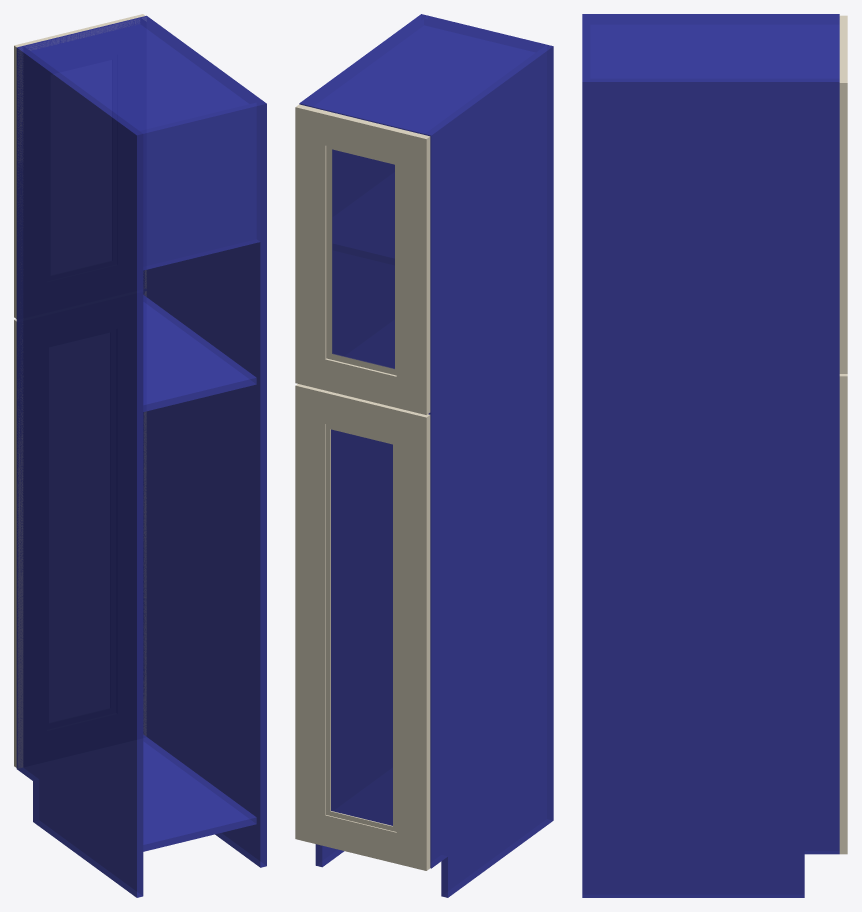
The picture shows the model from 3 angles, left to right: view 1: azimuth 30°, elevation 25°; view 2: azimuth 150°, elevation 25°; view 3: azimuth 270°, elevation 25°; orthographic projection. The views are drawn at different scales.
Parts seen in each view (by area): view 1: mesh7_mesh7-geometry, mesh3_mesh3-geometry, mesh1_mesh1-geometry, mesh9_mesh9-geometry, mesh24_mesh24-geometry, mesh15_mesh15-geometry, mesh20_mesh20-geometry; view 2: mesh7_mesh7-geometry, mesh17_mesh17-geometry, mesh3_mesh3-geometry, mesh9_mesh9-geometry, mesh15_mesh15-geometry, mesh26_mesh26-geometry, mesh18_mesh18-geometry, mesh24_mesh24-geometry, mesh22_mesh22-geometry, mesh11_mesh11-geometry, mesh20_mesh20-geometry, mesh13_mesh13-geometry (+1 smaller); view 3: mesh7_mesh7-geometry, mesh3_mesh3-geometry, mesh15_mesh15-geometry, mesh18_mesh18-geometry, mesh1_mesh1-geometry.
Boxes of the visible parts, bbox=[...] form: mesh7_mesh7-geometry: bbox=[16, 15, 266, 897]; mesh3_mesh3-geometry: bbox=[23, 17, 256, 851]; mesh1_mesh1-geometry: bbox=[140, 102, 260, 270]; mesh9_mesh9-geometry: bbox=[14, 319, 22, 767]; mesh24_mesh24-geometry: bbox=[14, 38, 46, 318]; mesh15_mesh15-geometry: bbox=[143, 291, 146, 735]; mesh20_mesh20-geometry: bbox=[41, 21, 118, 46]; mesh7_mesh7-geometry: bbox=[299, 14, 553, 897]; mesh17_mesh17-geometry: bbox=[331, 429, 392, 825]; mesh3_mesh3-geometry: bbox=[306, 18, 542, 858]; mesh9_mesh9-geometry: bbox=[393, 409, 430, 870]; mesh15_mesh15-geometry: bbox=[295, 384, 330, 846]; mesh26_mesh26-geometry: bbox=[332, 149, 394, 369]; mesh18_mesh18-geometry: bbox=[295, 104, 332, 390]; mesh24_mesh24-geometry: bbox=[395, 129, 430, 414]; mesh22_mesh22-geometry: bbox=[325, 354, 396, 407]; mesh11_mesh11-geometry: bbox=[323, 390, 401, 444]; mesh20_mesh20-geometry: bbox=[323, 111, 401, 164]; mesh13_mesh13-geometry: bbox=[325, 811, 396, 863]; mesh7_mesh7-geometry: bbox=[582, 14, 839, 897]; mesh3_mesh3-geometry: bbox=[590, 17, 839, 850]; mesh15_mesh15-geometry: bbox=[839, 374, 847, 854]; mesh18_mesh18-geometry: bbox=[839, 67, 847, 373]; mesh1_mesh1-geometry: bbox=[582, 17, 590, 224].
Bounding box in the file's own units: 0.1688 × 0.9455 × 0.2786.
